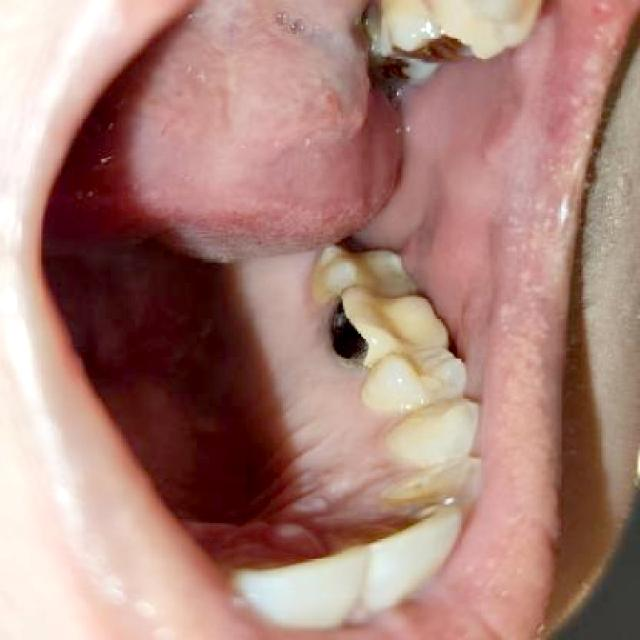Plaque: (310, 292, 371, 387)
